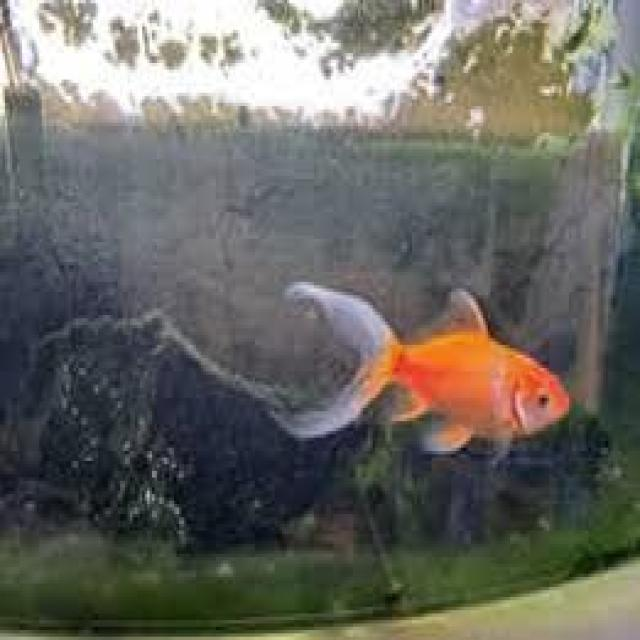Gold-Fish: (252, 220, 580, 511)
